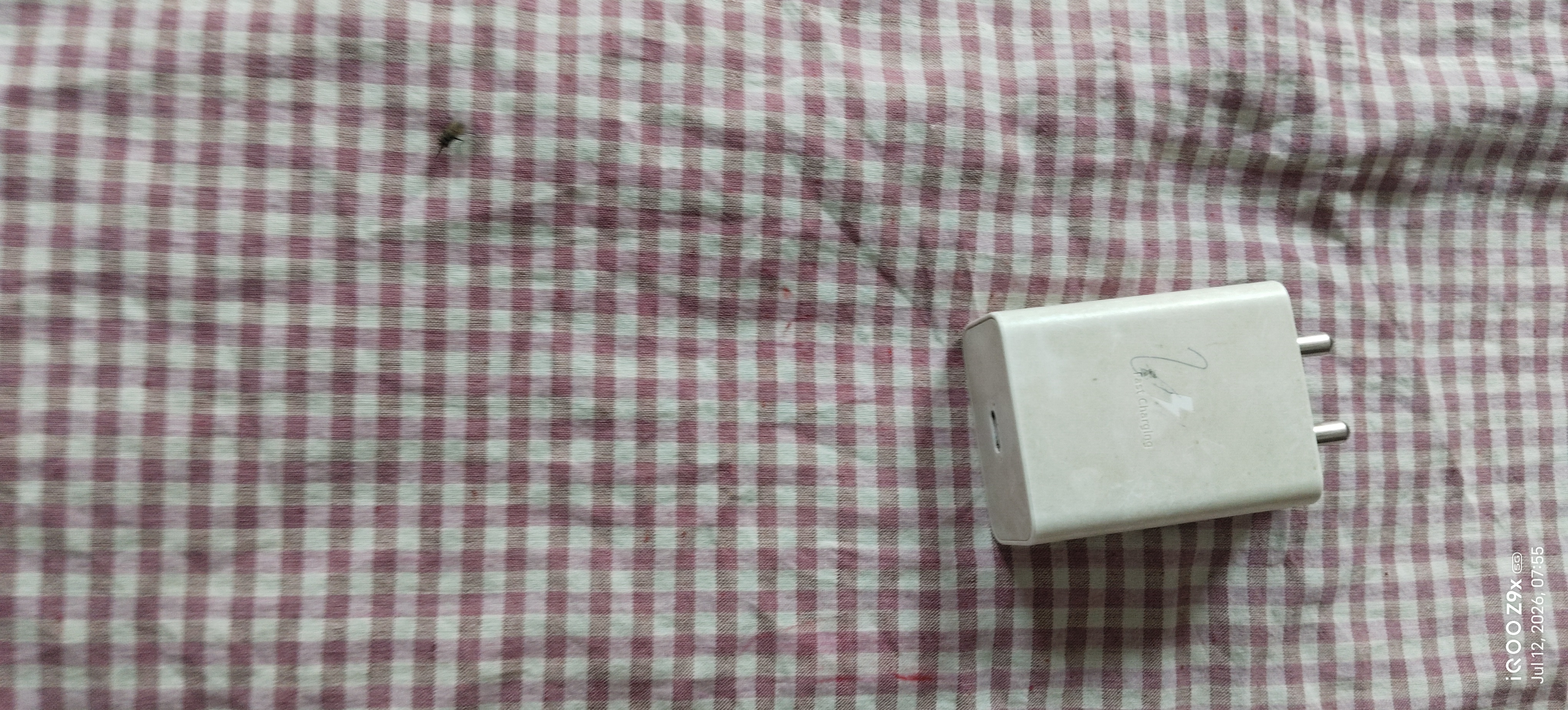charger: (928, 258, 1371, 582)
